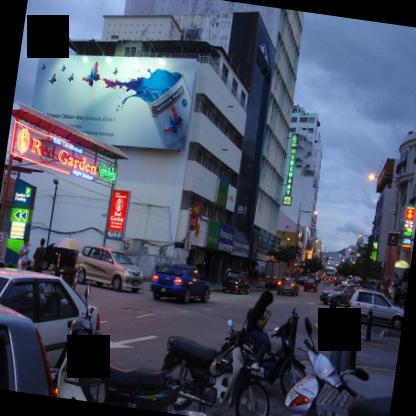backpack: (243, 308, 253, 337)
